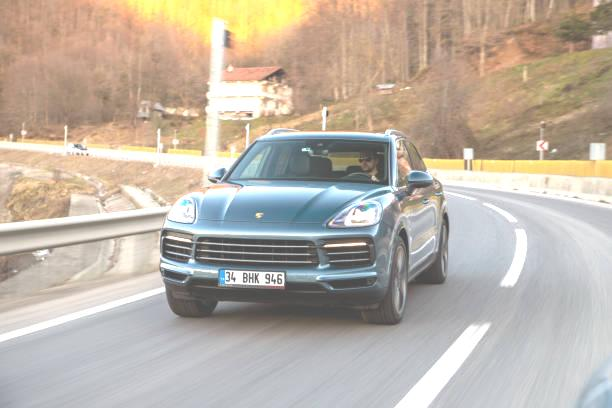porsche: (251, 208, 268, 223)
